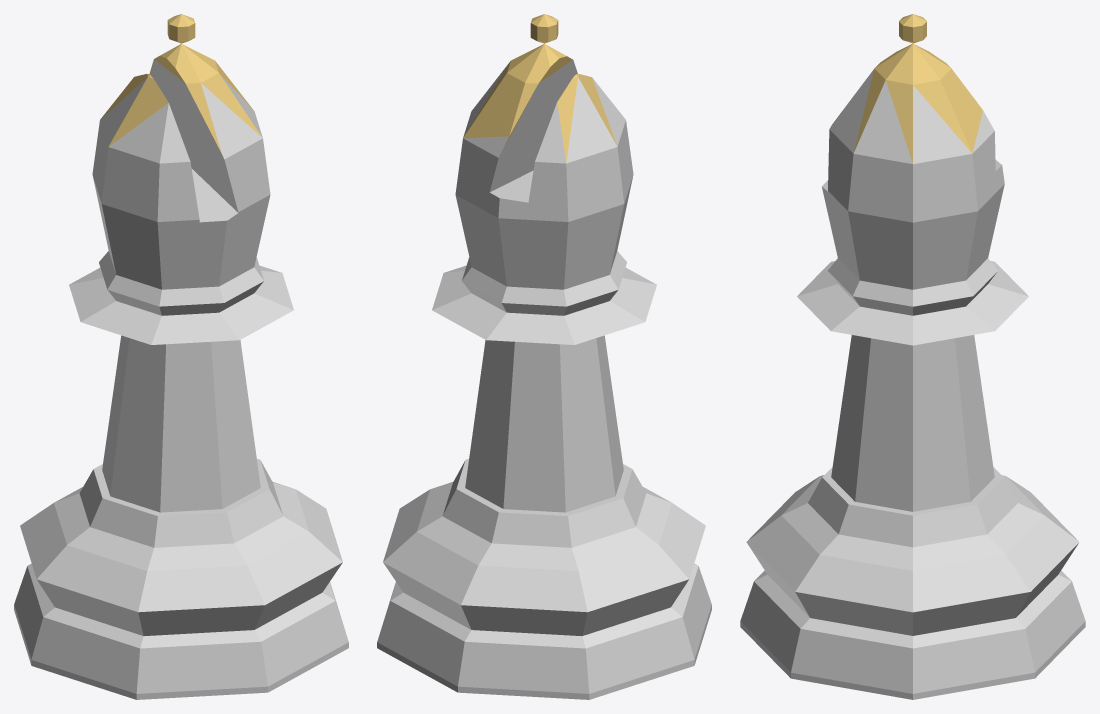
Rendered from gercek5_b_w.glb.
3 views of the same model, side by side, from view 1: azimuth 30°, elevation 25°; view 2: azimuth 150°, elevation 25°; view 3: azimuth 270°, elevation 25° (orthographic).
Visible parts, largest first — view 1: b_w; view 2: b_w; view 3: b_w.
Part boxes in pixels (x1,y1,x2,y2): b_w: [14, 14, 348, 699]; b_w: [377, 14, 711, 699]; b_w: [740, 14, 1085, 699].
Bounding box in the file's own units: 0.4594 × 0.9 × 0.4594.
